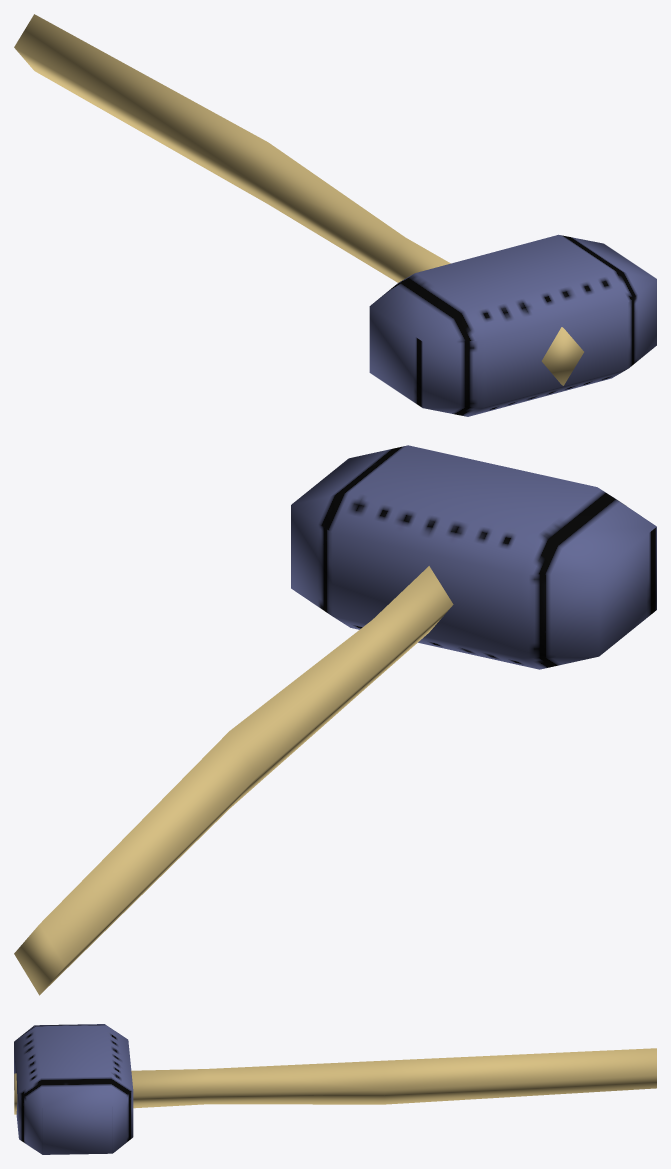
The model's file is Молот гнома.fbx.
3 views of the same model, one above another, from view 1: azimuth 30°, elevation 25°; view 2: azimuth 150°, elevation 25°; view 3: azimuth 270°, elevation 25° (orthographic). The views are drawn at different scales.
Visible parts, largest first — view 1: Цилиндр; view 2: Цилиндр; view 3: Цилиндр.
Boxes of the visible parts, <box> form: Цилиндр: <box>14,14,656,416</box>; Цилиндр: <box>14,445,656,995</box>; Цилиндр: <box>14,1024,656,1154</box>.
Size of the model in its own units: 0.1558 by 0.0662 by 0.5039.
